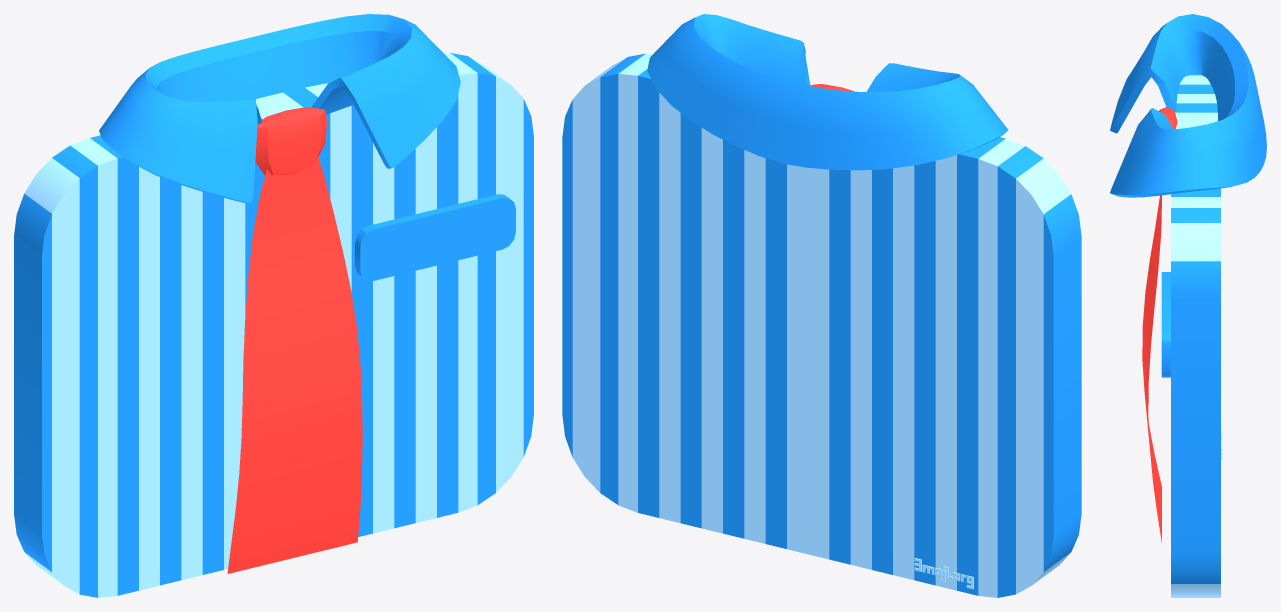
The model's file is necktie.glb.
3 views of the same model, side by side, from view 1: azimuth 30°, elevation 25°; view 2: azimuth 150°, elevation 25°; view 3: azimuth 270°, elevation 25° (orthographic). The views are drawn at different scales.
Visible parts, largest first — view 1: Cube.6105; view 2: Cube.6105; view 3: Cube.6105.
Boxes of the visible parts, box(x1,y1,x2,y2) form: Cube.6105: box(14, 14, 533, 597); Cube.6105: box(562, 14, 1081, 597); Cube.6105: box(1110, 14, 1266, 597).
Size of the model in its own units: 2.2 by 2.12 by 0.6749.
Materials: 1 (1 with a texture image).
